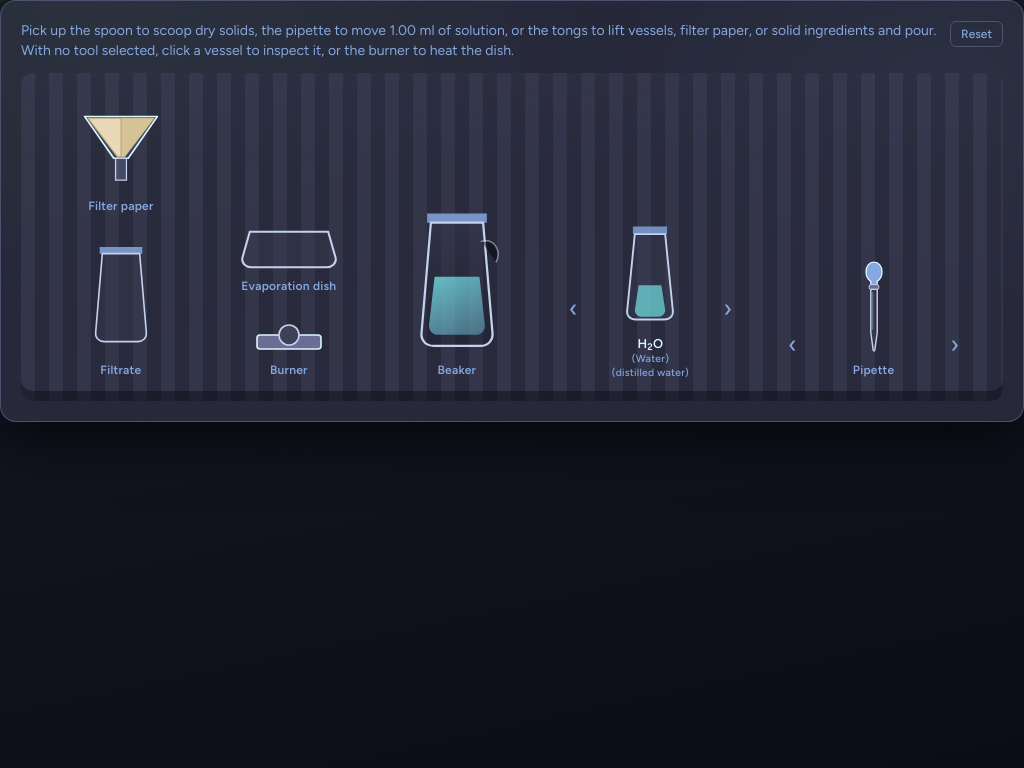
LabBench inspect › idle salt inspect shows server stock mass
The image size is (1024, 768).
Expected: the button "Pipette" is shown, [850,253,898,385]
Click the button named "Next ingredient": (728, 309) [715,287,740,331]
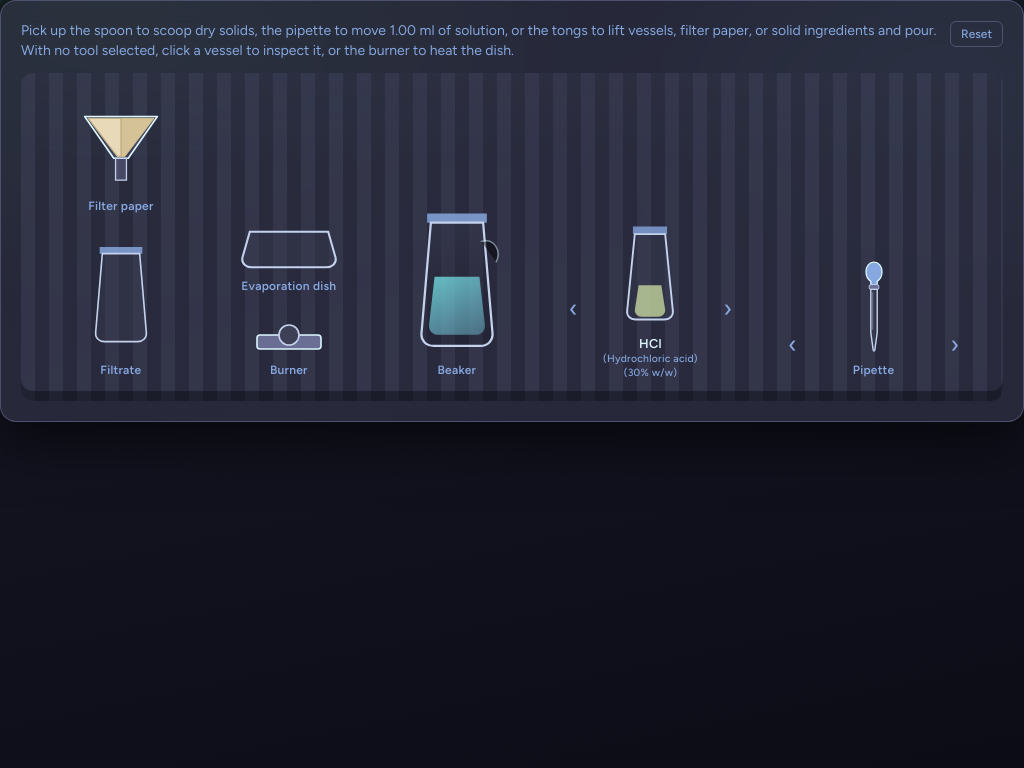
Click the button named "Next ingredient": (728, 309) [715,287,740,331]
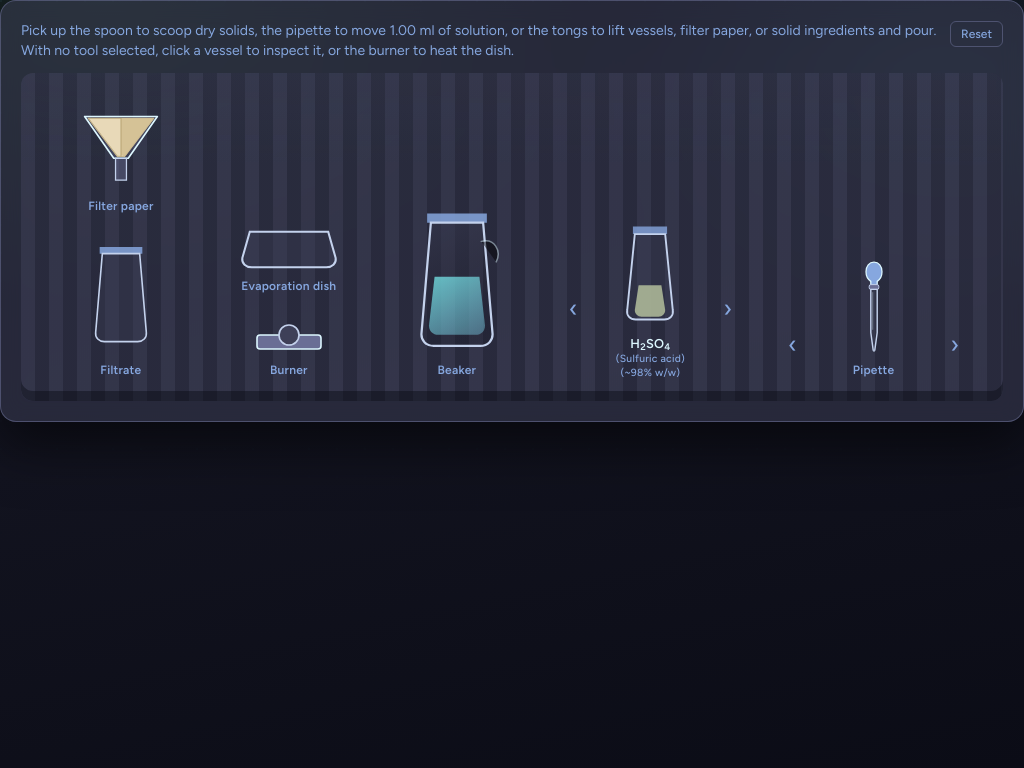
Click the button named "Next ingredient": (728, 309) [715,287,740,331]
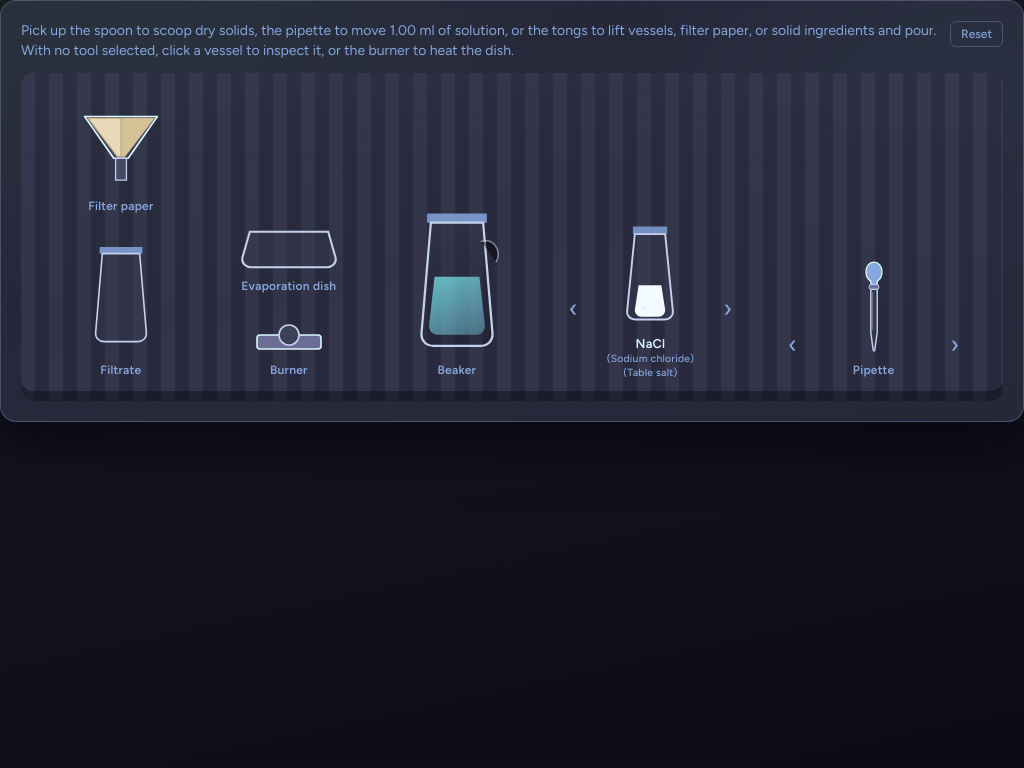
Click the button with aria-label "Sodium chloride (NaCl)": (650, 298) [604,212,697,385]
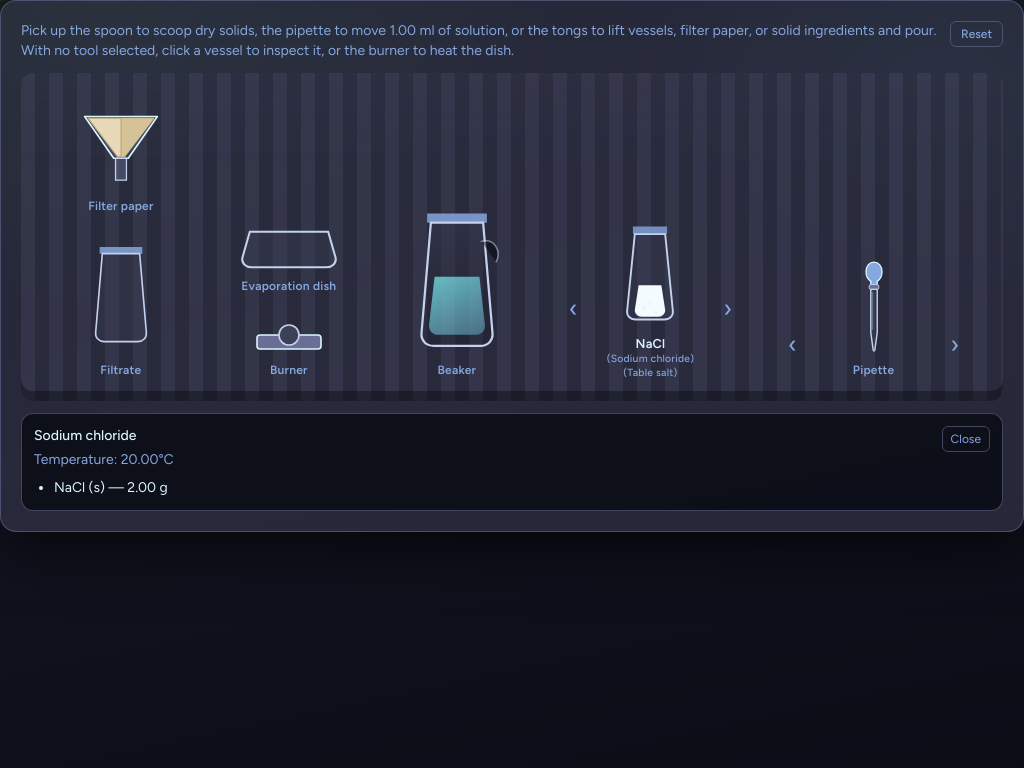
Expected: the dialog named "Contents of Sodium chloride" shows "NaCl (s)", [21,413,1003,511]
Expected: the dialog named "Contents of Sodium chloride" shows "2.00 g", [127,479,168,496]
